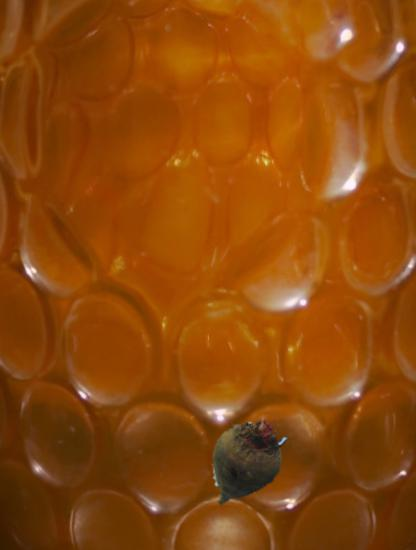Beetroot: (194, 409, 297, 512)
